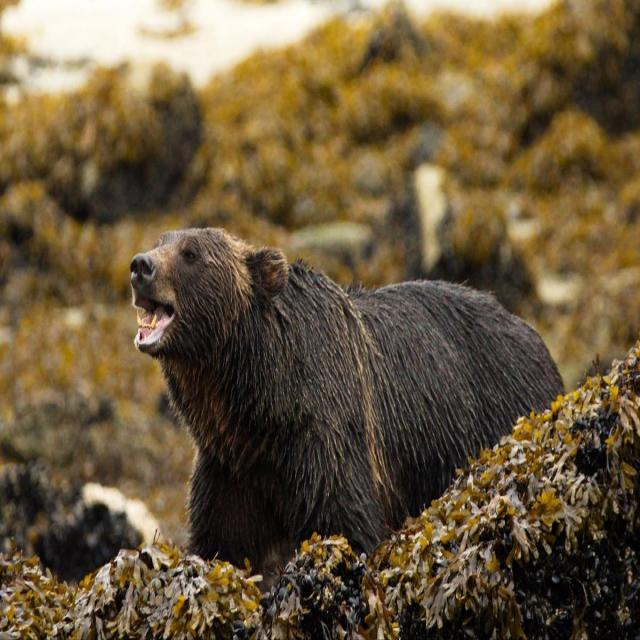Bear: (128, 228, 565, 592)
